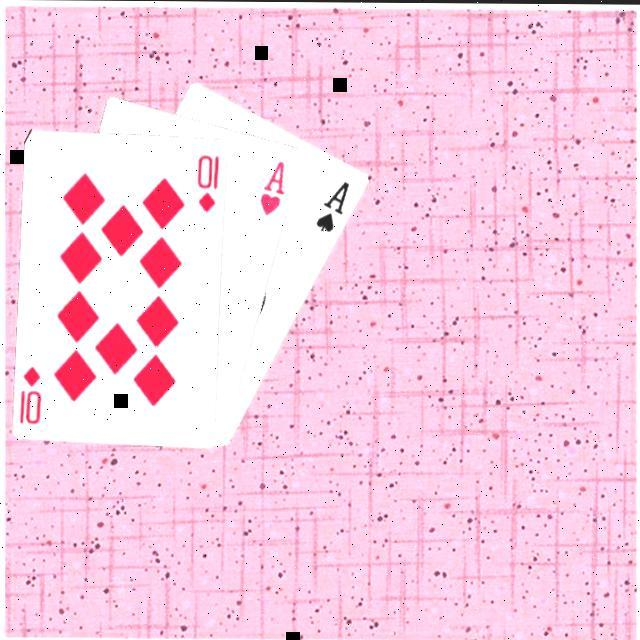10D: (18, 362, 46, 426), (197, 149, 224, 213)
AH: (260, 156, 290, 217)
AS: (314, 176, 354, 234)
